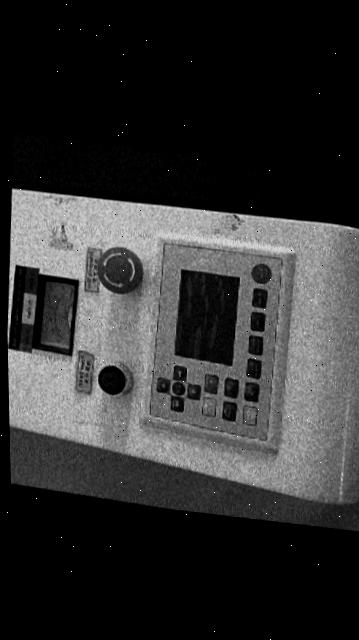Amp_Meter: (31, 278, 75, 355)
Display: (172, 269, 237, 365)
Down_button: (184, 384, 199, 401)
Emergency_Stop: (95, 246, 141, 294)
Enter_button: (199, 397, 214, 418)
Esc_button: (201, 373, 216, 394)
File_button: (242, 382, 257, 402)
Frame_button: (220, 401, 234, 421)
Left_button: (170, 365, 185, 382)
Max-Power_button: (244, 358, 260, 379)
Min-Power_button: (246, 334, 261, 356)
Origin_button: (222, 377, 237, 398)
Power_switch: (96, 363, 129, 395)
Pulse_button: (249, 287, 264, 308)
Reset_button: (249, 263, 269, 284)
Right_button: (168, 395, 182, 412)
Speed_button: (248, 312, 263, 332)
Start-Pause_button: (240, 404, 255, 425)
Up_button: (153, 377, 169, 394)
Z_U_button: (170, 382, 183, 395)
